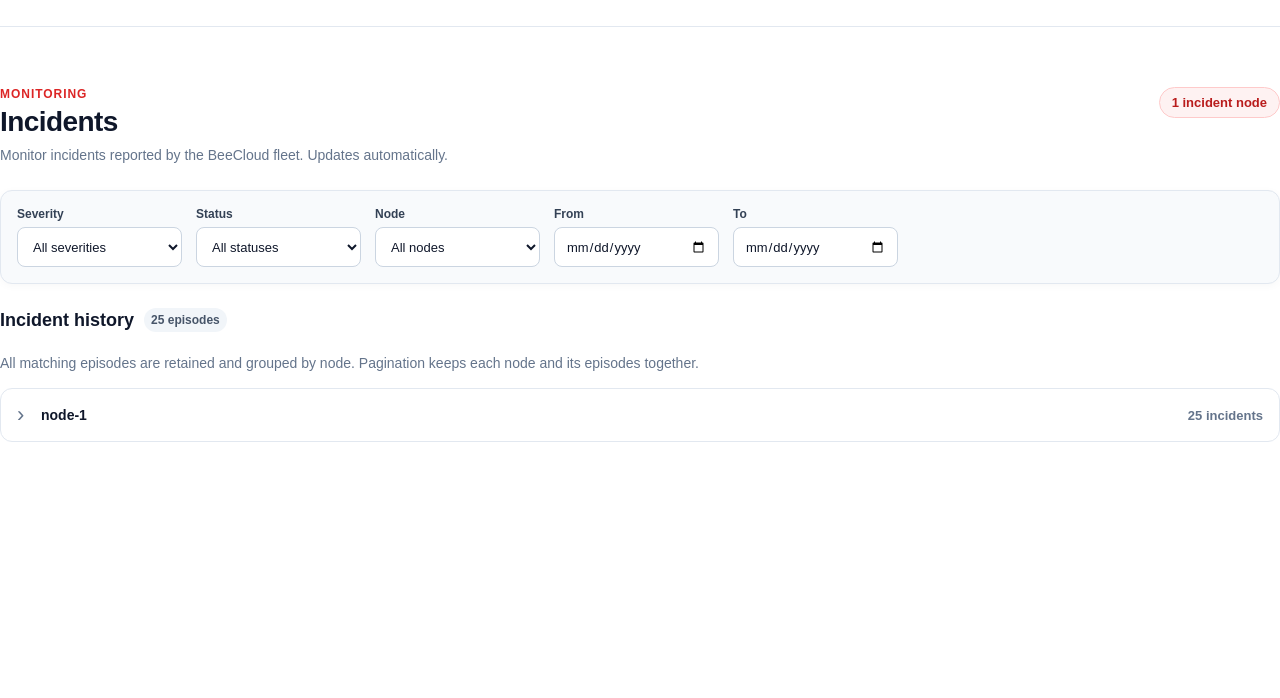
Test: IncidentsSection › paginates node history in groups of six episodes
This screenshot has width=1280, height=698.
Click the heading "node-1 25 incidents": (64, 415) [41,407,1263,423]
(page scrolled)
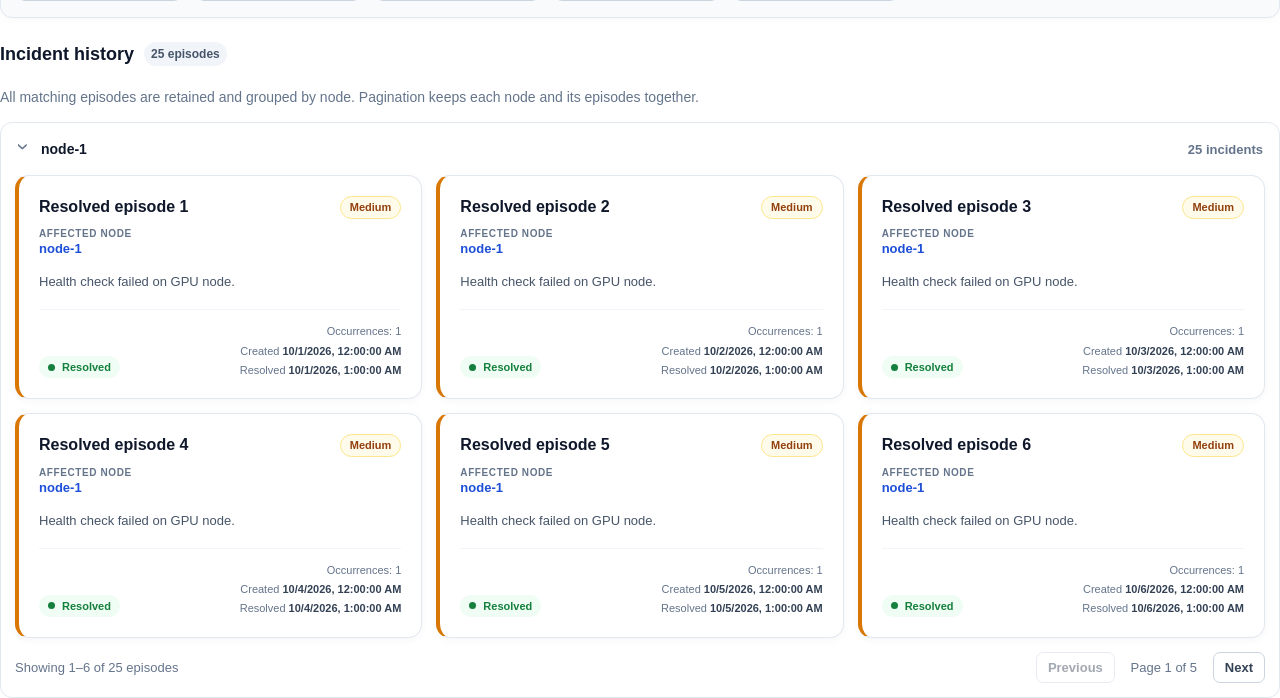
Check: the heading "Resolved episode 1" is shown, box [39,196,188,218]
Check: the heading "Resolved episode 6" is shown, box [882,434,1031,457]
Check: the text "Showing 1–6 of 25 episodes" is shown, box [15,660,178,675]
Click the button "Next": (1239, 667) [1213,652,1265,683]
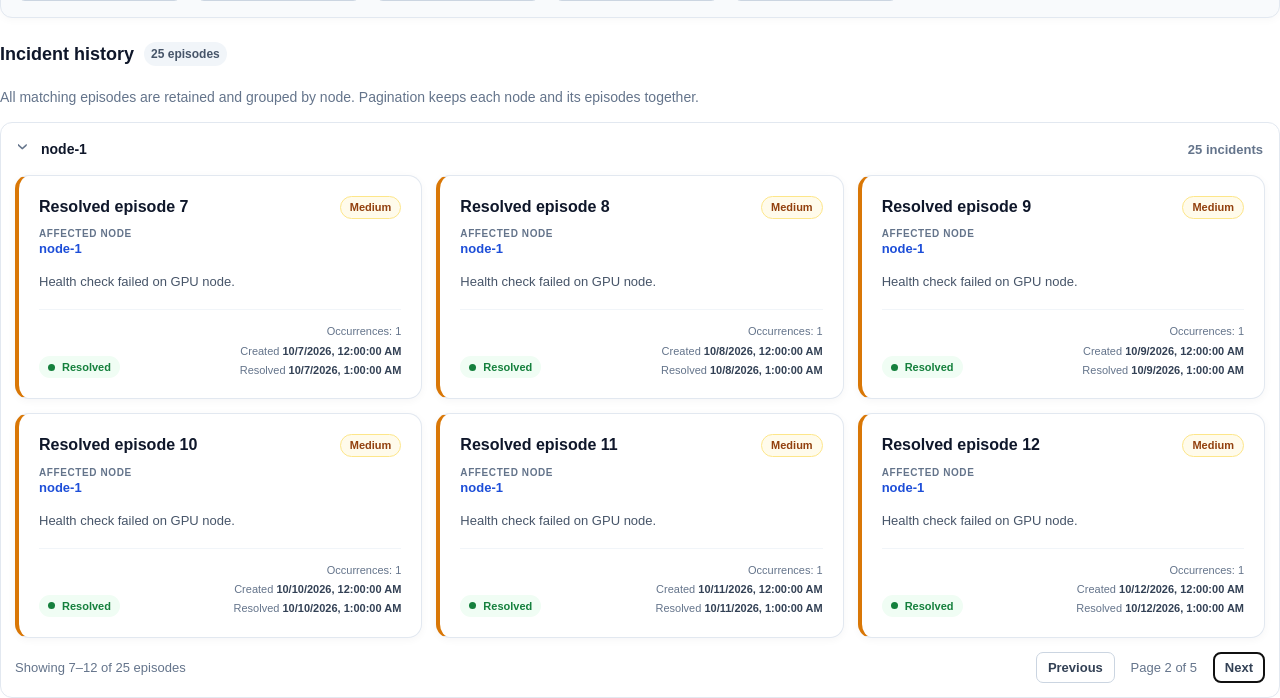
Check: the heading "Resolved episode 7" is shown, box [39,196,188,218]
Check: the heading "Resolved episode 12" is shown, box [882,434,1040,457]
Check: the heading "Resolved episode 6" is gone
